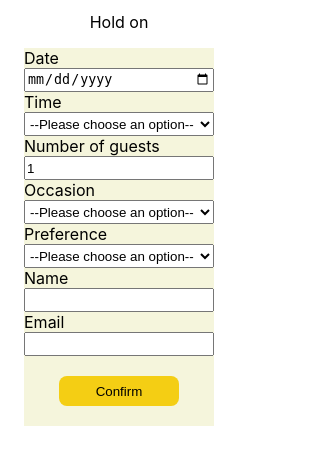
Scenario: Test BookingForm › Testing form validation on invalid inputs › test too big number of guests
Replace the text in the number field labelled "Number of guests" with "11" at (119, 168), box [24, 156, 214, 180]
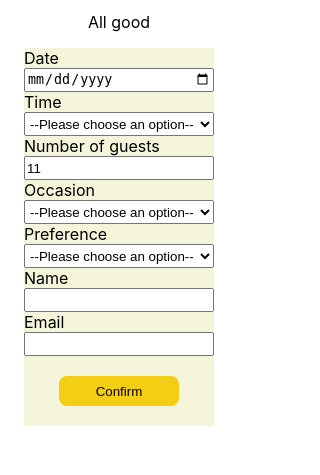
Leave the number field labelled "Number of guests", box [24, 156, 214, 180]
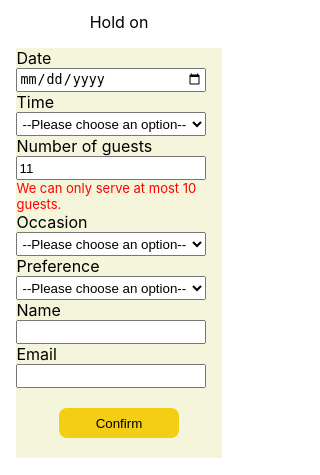
Result: the text with test id "res_guests_error" reads "We can only serve at most 10 guests." at [16, 180, 196, 212]
